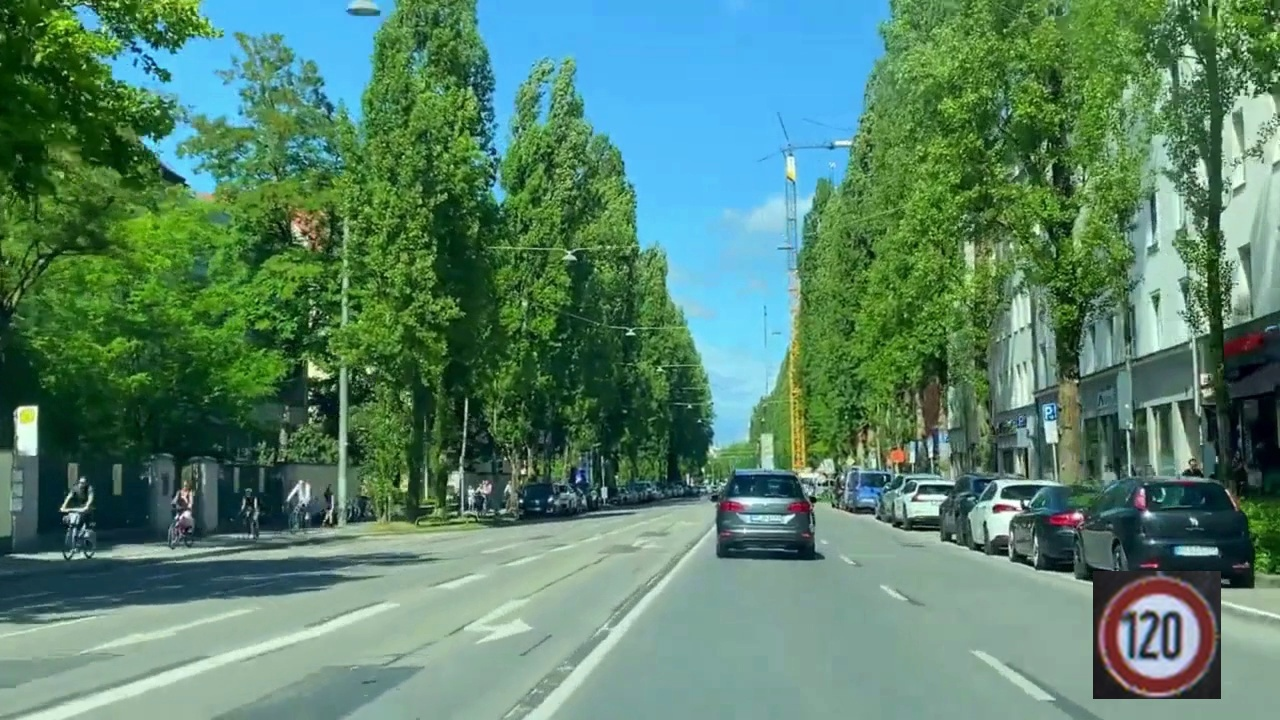Speed 120: (1093, 571, 1221, 699)
